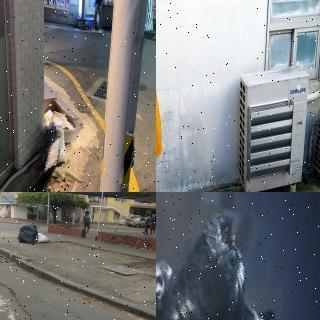Garbage: (165, 203, 253, 320), (39, 113, 78, 178), (18, 222, 39, 244), (37, 232, 51, 243)
